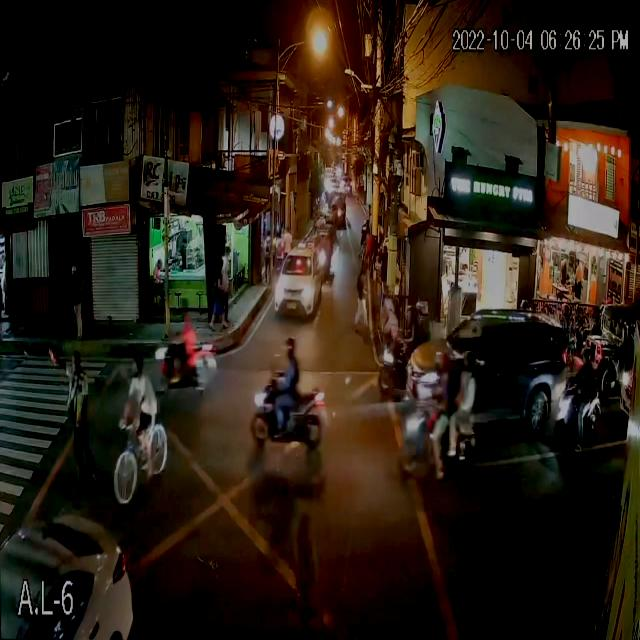Full-Faced: (282, 332, 299, 360), (403, 303, 419, 329), (581, 348, 592, 367)
